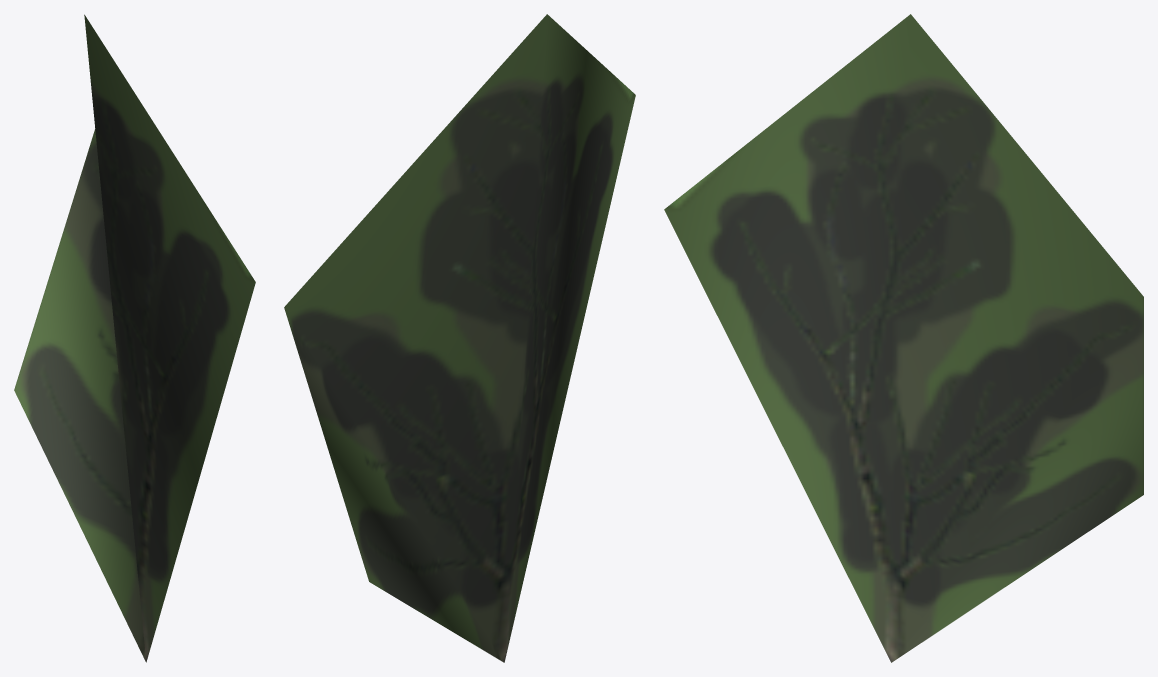
Rendered from sycamoreTwig.fbx.
3 renders of one model, left to right at view 1: azimuth 30°, elevation 25°; view 2: azimuth 150°, elevation 25°; view 3: azimuth 270°, elevation 25°, orthographic. The views are drawn at different scales.
Visible parts, largest first — view 1: twig; view 2: twig; view 3: twig.
Part boxes in pixels (x1=…): twig: x1=14, y1=14, x2=255, y2=662; twig: x1=284, y1=14, x2=635, y2=662; twig: x1=664, y1=14, x2=1143, y2=662.
Size of the model in its own units: 1.49 by 6.88 by 4.79.
